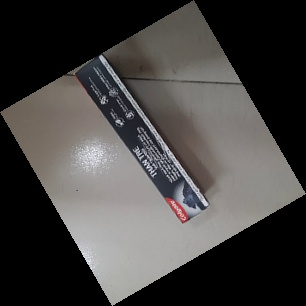Colgate Than: (75, 54, 209, 224)
